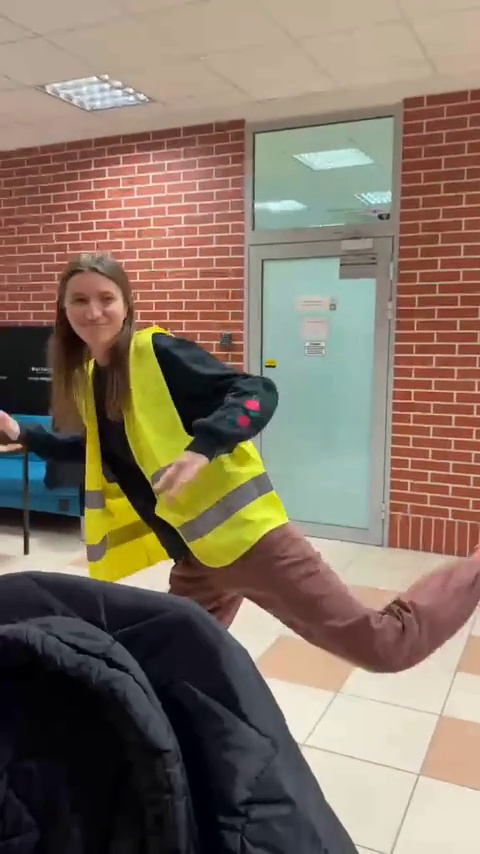vest: (66, 244, 429, 673)
